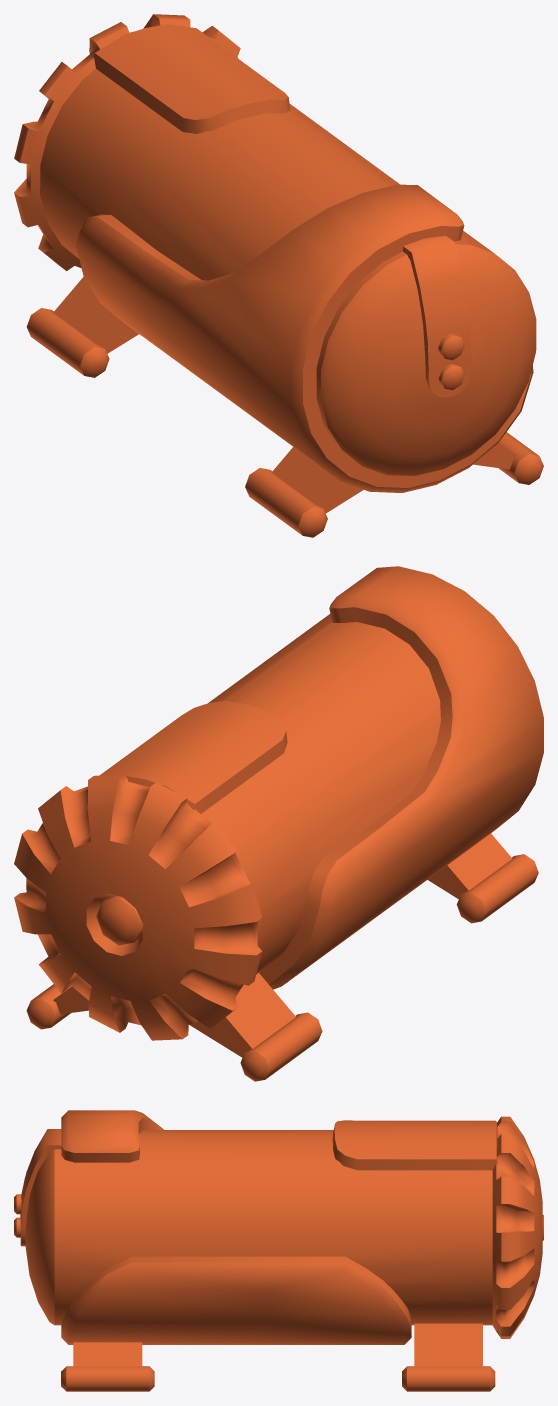
The model's file is tank.fbx.
3 renders of one model, top to bottom at view 1: azimuth 30°, elevation 25°; view 2: azimuth 150°, elevation 25°; view 3: azimuth 270°, elevation 25°, orthographic. The views are drawn at different scales.
Visible parts, largest first — view 1: tank; view 2: tank; view 3: tank.
Boxes of the visible parts, <box> form: tank: <box>14,14,543,537</box>; tank: <box>14,566,543,1081</box>; tank: <box>14,1110,543,1391</box>.
Size of the model in its own units: 143 by 154 by 324.
